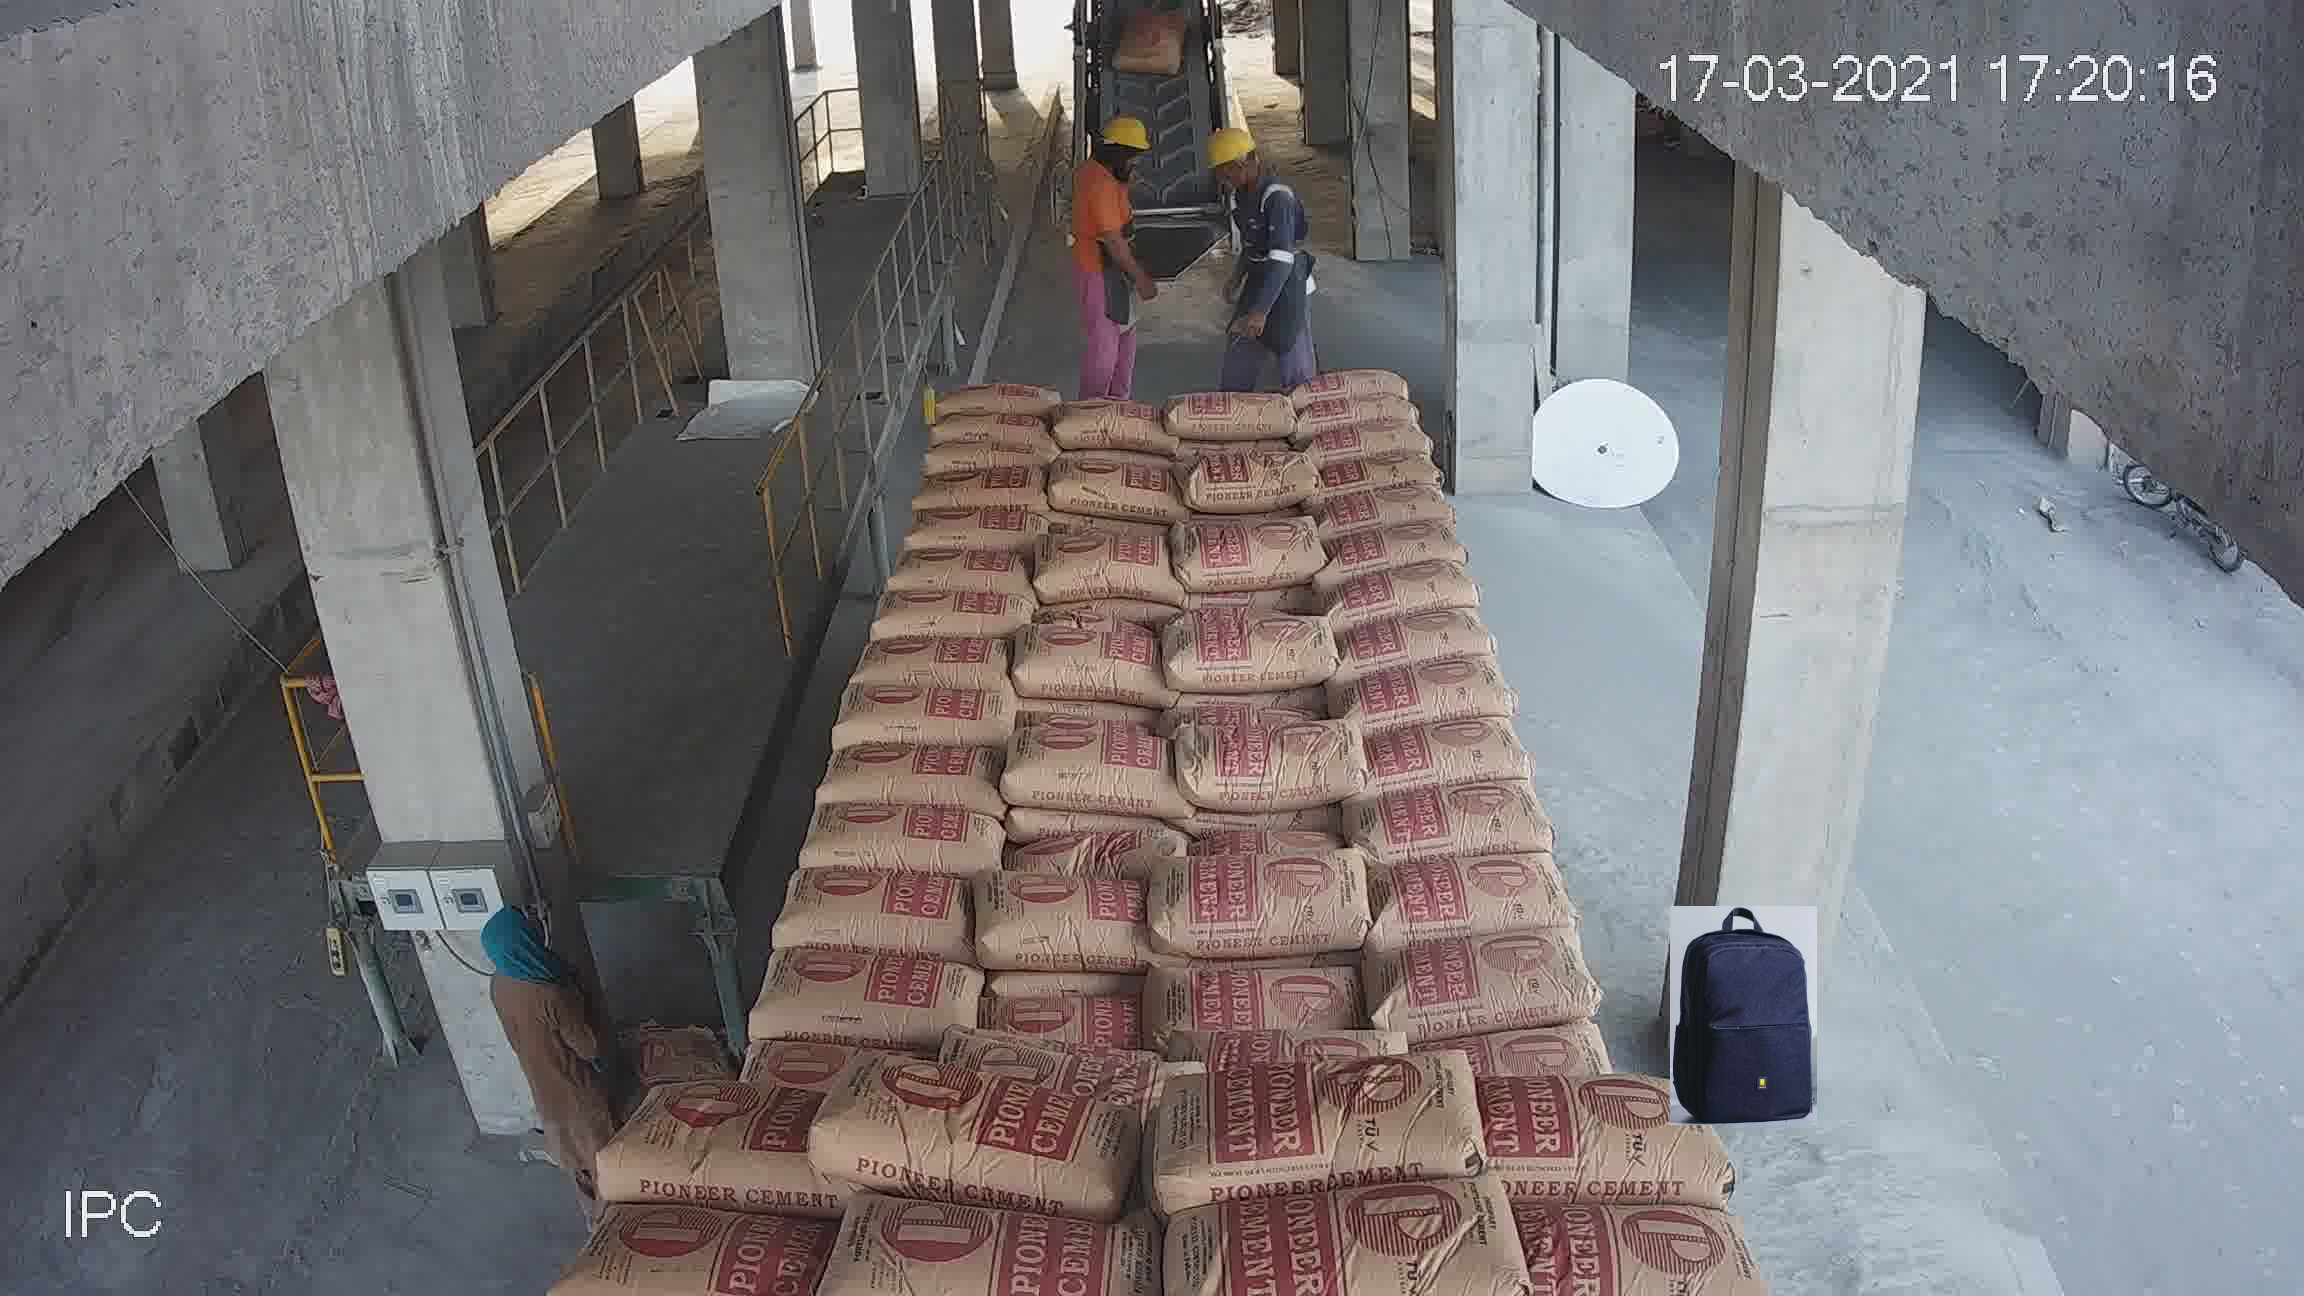bag: (1120, 568, 1272, 742), (1071, 21, 1223, 106)
bag_h: (788, 1060, 1161, 1201), (1154, 1055, 1510, 1203), (1163, 923, 1434, 1084), (1217, 1176, 1537, 1296), (815, 1188, 1193, 1290), (571, 1067, 818, 1218), (889, 926, 1166, 1059), (646, 937, 885, 1082), (1521, 1180, 1809, 1296), (706, 828, 978, 949), (1438, 953, 1714, 1071), (1472, 1070, 1715, 1203), (527, 1187, 847, 1279), (1010, 761, 1184, 900), (1025, 840, 1188, 965), (1419, 828, 1590, 943), (1157, 847, 1385, 924), (986, 714, 1177, 786), (1011, 665, 1174, 736), (1410, 775, 1537, 862), (1405, 699, 1521, 790), (1400, 639, 1510, 729), (1165, 744, 1253, 843), (1388, 510, 1476, 576), (1377, 479, 1465, 533), (1367, 438, 1445, 498), (1416, 562, 1492, 614), (1362, 411, 1438, 460), (1355, 366, 1416, 426), (1410, 612, 1492, 655), (1321, 347, 1402, 385), (1328, 313, 1389, 351)
belt: (992, 59, 1317, 600)
